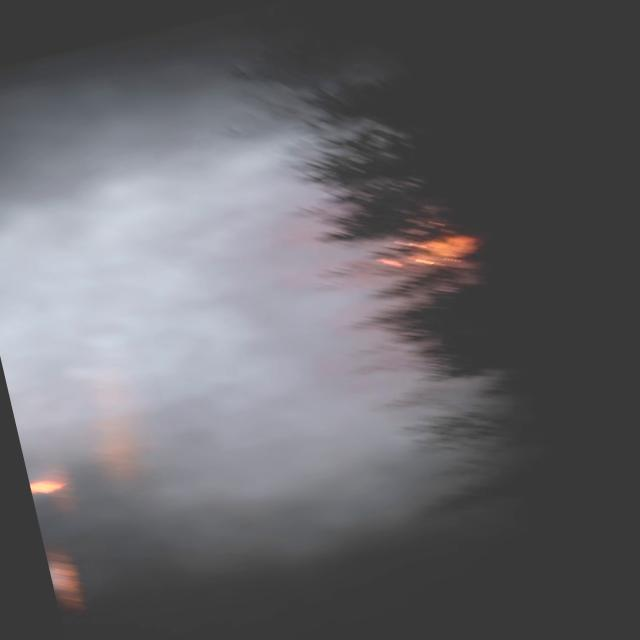fire: (372, 210, 480, 281), (27, 467, 66, 499)
smoke: (0, 0, 527, 613)
